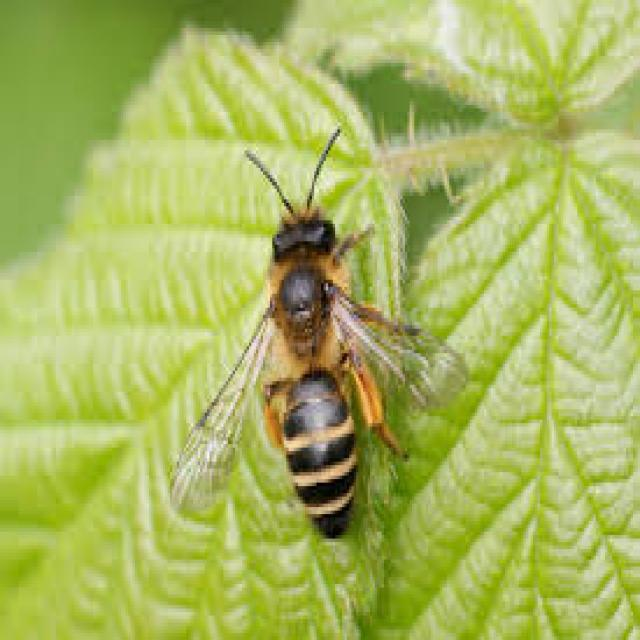Bees: (169, 125, 470, 539)
